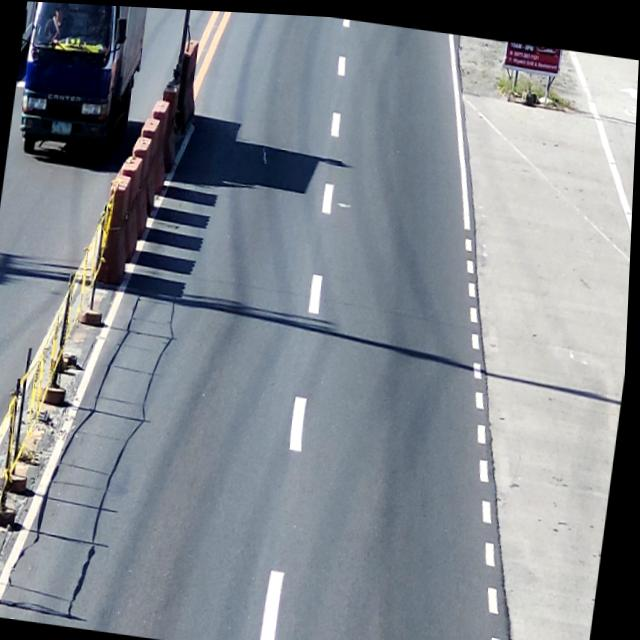License-Plate: (48, 117, 76, 139)
Truck: (13, 1, 144, 167)
